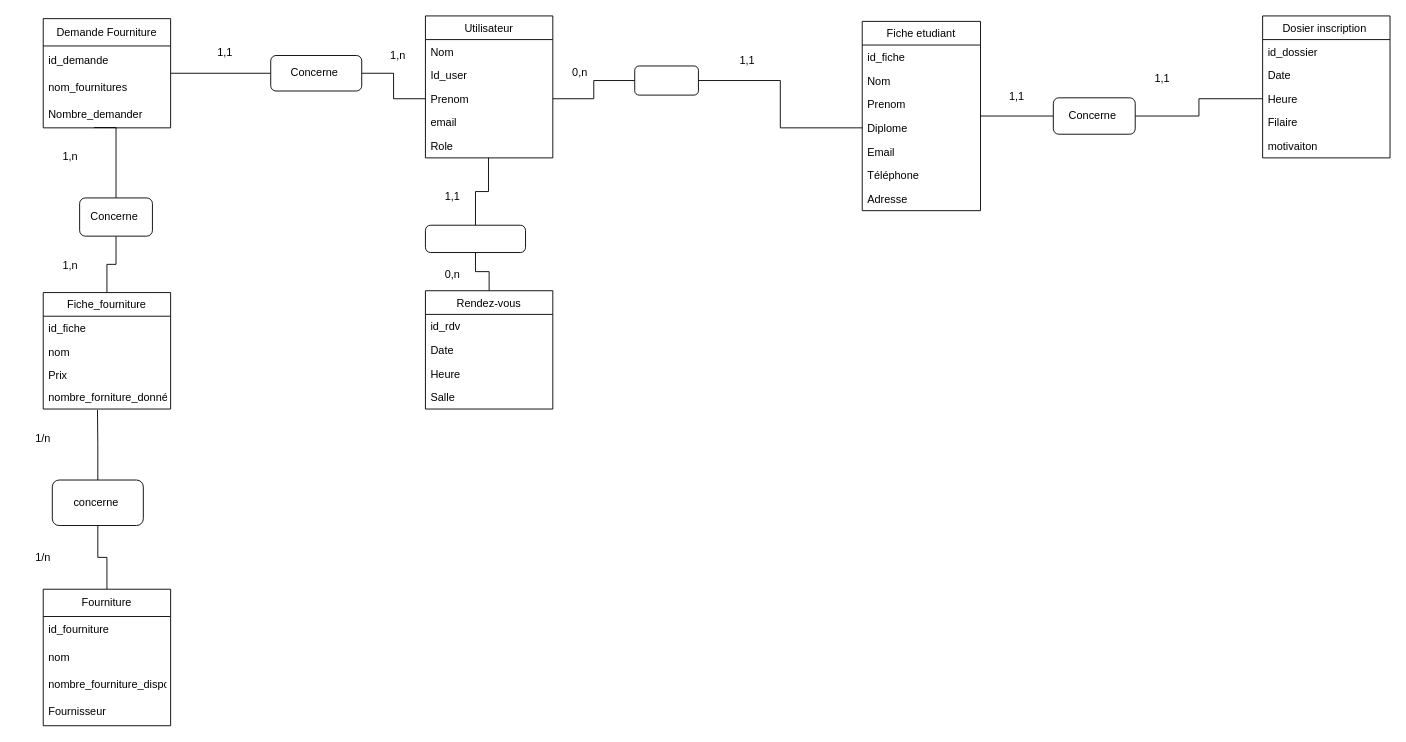
Image size: 1406x742. Some labels were removed from this diagram. The centre of each missing label's shape, as x and y in pixels:
Crée: pixel 666 80
Propose: pixel 475 238
